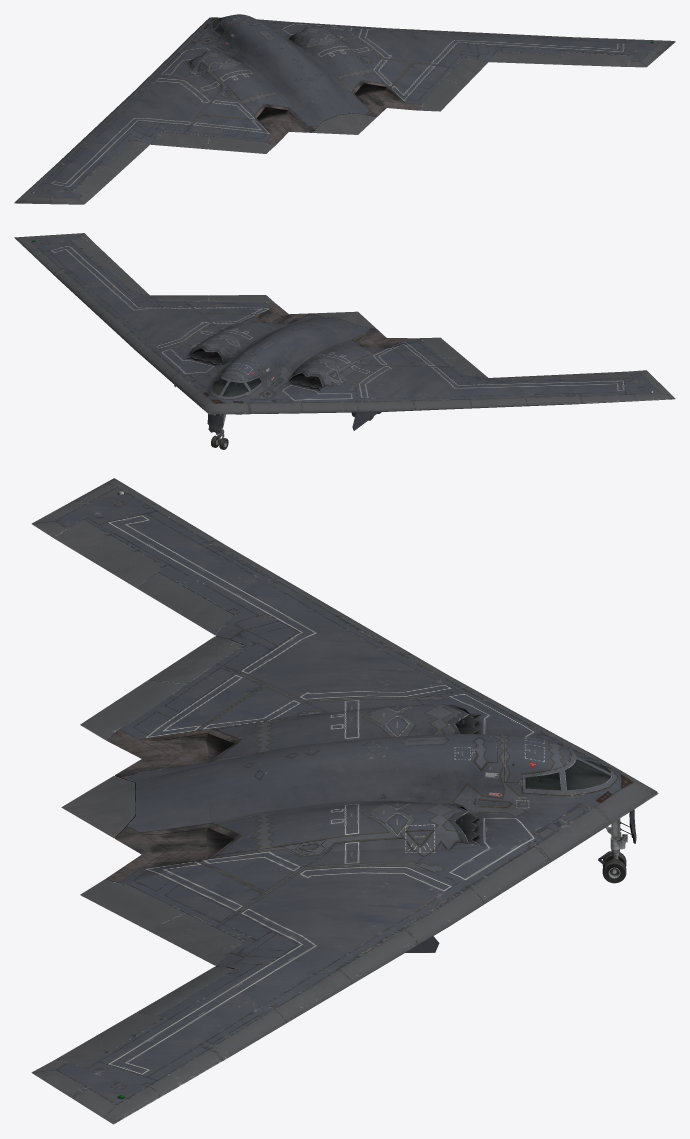
File: b-2_spirit.glb
The picture shows the model from 3 angles, top to bottom: view 1: azimuth 30°, elevation 25°; view 2: azimuth 150°, elevation 25°; view 3: azimuth 270°, elevation 25°; orthographic projection. The views are drawn at different scales.
Parts seen in each view (by area): view 1: SK_West_Bomber_B2_LOD0_25_53, SK_West_Bomber_B2_LOD0.002_23_49, SK_West_Bomber_B2_LOD0.003_22_47, SK_West_Bomber_B2_LOD0.018_7_17, SK_West_Bomber_B2_LOD0.001_24_51, SK_West_Bomber_B2_LOD0.006_19_41, SK_West_Bomber_B2_LOD0.004_21_45, SK_West_Bomber_B2_LOD0.005_20_43; view 2: SK_West_Bomber_B2_LOD0_25_53, SK_West_Bomber_B2_LOD0.002_23_49, SK_West_Bomber_B2_LOD0.003_22_47, SK_West_Bomber_B2_LOD0.018_7_17, SK_West_Bomber_B2_LOD0.001_24_51, SK_West_Bomber_B2_LOD0.006_19_41, SK_West_Bomber_B2_LOD0.007_18_39, SK_West_Bomber_B2_LOD0.004_21_45, SK_West_Bomber_B2_LOD0.009_16_35; view 3: SK_West_Bomber_B2_LOD0_25_53, SK_West_Bomber_B2_LOD0.002_23_49, SK_West_Bomber_B2_LOD0.003_22_47, SK_West_Bomber_B2_LOD0.001_24_51, SK_West_Bomber_B2_LOD0.018_7_17, SK_West_Bomber_B2_LOD0.004_21_45, SK_West_Bomber_B2_LOD0.005_20_43, SK_West_Bomber_B2_LOD0.006_19_41, SK_West_Bomber_B2_LOD0.007_18_39, SK_West_Bomber_B2_LOD0.021_4_11.
Boxes of the visible parts, x1,y1,x2,y2 form: SK_West_Bomber_B2_LOD0_25_53: [150, 14, 653, 153]; SK_West_Bomber_B2_LOD0.002_23_49: [57, 50, 260, 165]; SK_West_Bomber_B2_LOD0.003_22_47: [14, 37, 675, 204]; SK_West_Bomber_B2_LOD0.018_7_17: [185, 50, 288, 118]; SK_West_Bomber_B2_LOD0.001_24_51: [289, 26, 386, 93]; SK_West_Bomber_B2_LOD0.006_19_41: [557, 51, 632, 66]; SK_West_Bomber_B2_LOD0.004_21_45: [72, 164, 121, 197]; SK_West_Bomber_B2_LOD0.005_20_43: [107, 140, 149, 170]; SK_West_Bomber_B2_LOD0_25_53: [32, 240, 487, 433]; SK_West_Bomber_B2_LOD0.002_23_49: [289, 342, 575, 412]; SK_West_Bomber_B2_LOD0.003_22_47: [14, 233, 675, 403]; SK_West_Bomber_B2_LOD0.018_7_17: [291, 339, 386, 391]; SK_West_Bomber_B2_LOD0.001_24_51: [186, 316, 288, 364]; SK_West_Bomber_B2_LOD0.006_19_41: [72, 240, 121, 268]; SK_West_Bomber_B2_LOD0.007_18_39: [212, 374, 261, 396]; SK_West_Bomber_B2_LOD0.004_21_45: [557, 371, 632, 379]; SK_West_Bomber_B2_LOD0.009_16_35: [290, 404, 575, 413]; SK_West_Bomber_B2_LOD0_25_53: [61, 636, 658, 1098]; SK_West_Bomber_B2_LOD0.002_23_49: [127, 546, 554, 734]; SK_West_Bomber_B2_LOD0.003_22_47: [31, 478, 229, 1124]; SK_West_Bomber_B2_LOD0.001_24_51: [208, 801, 480, 858]; SK_West_Bomber_B2_LOD0.018_7_17: [208, 704, 468, 762]; SK_West_Bomber_B2_LOD0.004_21_45: [53, 519, 166, 587]; SK_West_Bomber_B2_LOD0.005_20_43: [136, 572, 234, 635]; SK_West_Bomber_B2_LOD0.006_19_41: [53, 1013, 166, 1067]; SK_West_Bomber_B2_LOD0.007_18_39: [525, 752, 610, 789]; SK_West_Bomber_B2_LOD0.021_4_11: [598, 818, 627, 883].
Size of what is drawn, in the model's own units: 110 by 11.08 by 45.25.
25 materials, 25 textured.
